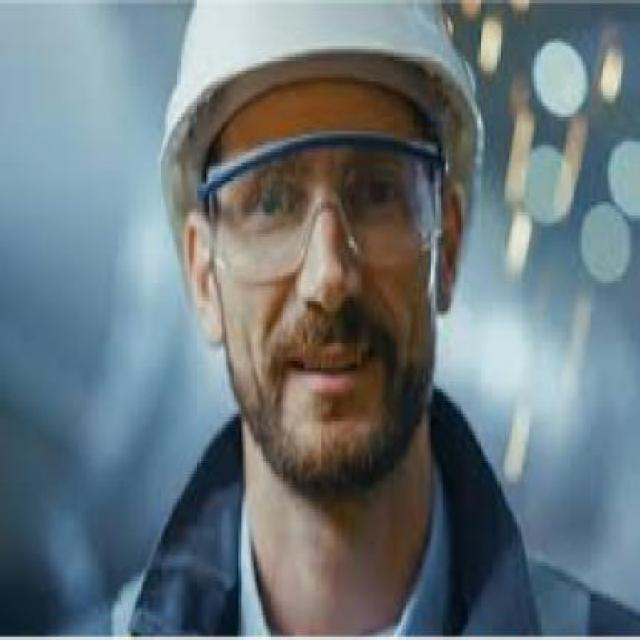Goggles: (194, 122, 459, 282)
